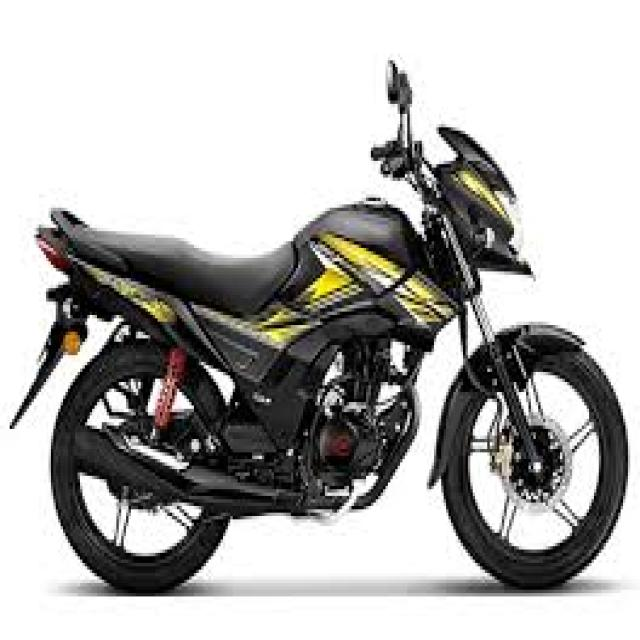bodaboda: (4, 19, 635, 608)
